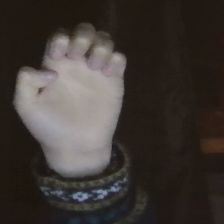E: (5, 16, 140, 165)
